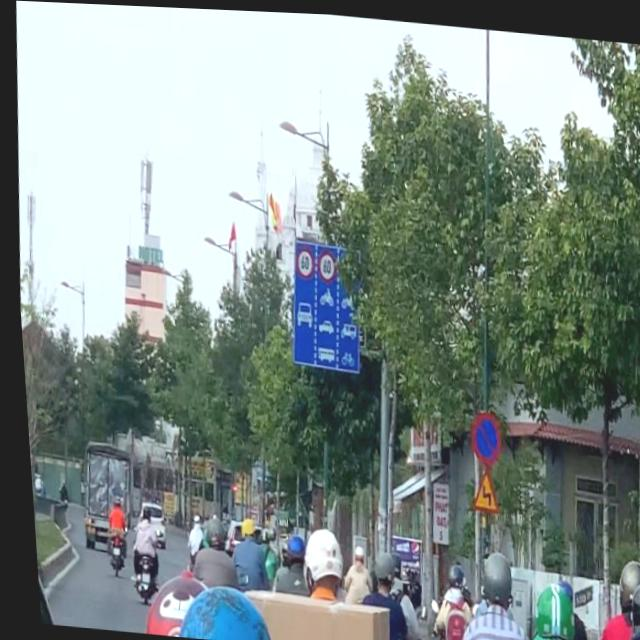Cam do xe: (464, 408, 498, 463)
Nhieu cho ngoat lien tiep ben trai: (463, 463, 495, 509)
Toc do toi da cho phep: (291, 243, 313, 278), (313, 246, 335, 281)
